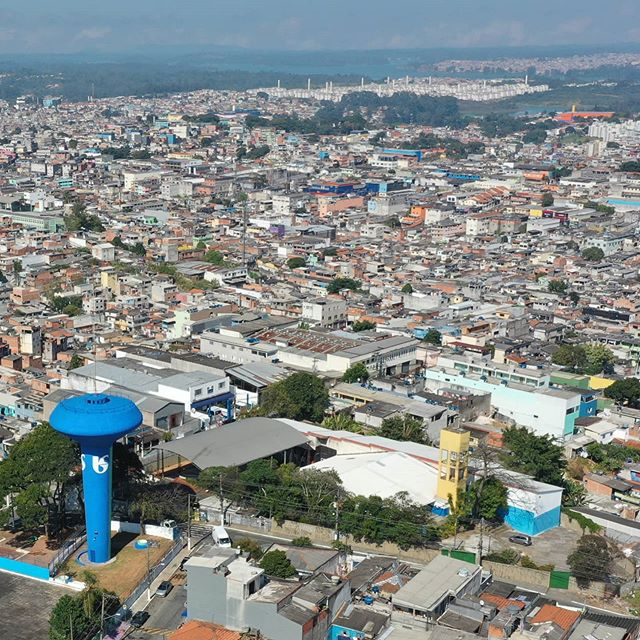building: (166, 527, 324, 640), (214, 306, 419, 391), (36, 356, 241, 441), (425, 360, 589, 444), (340, 563, 495, 640)
sky: (11, 1, 640, 47)
